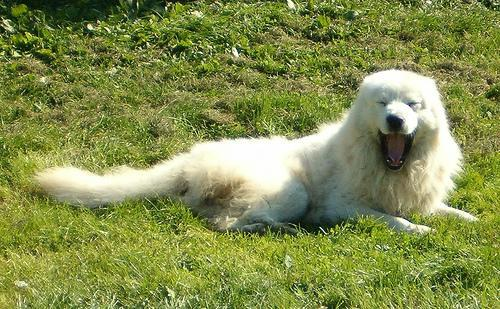Great_Pyrenees: (31, 70, 481, 235)
